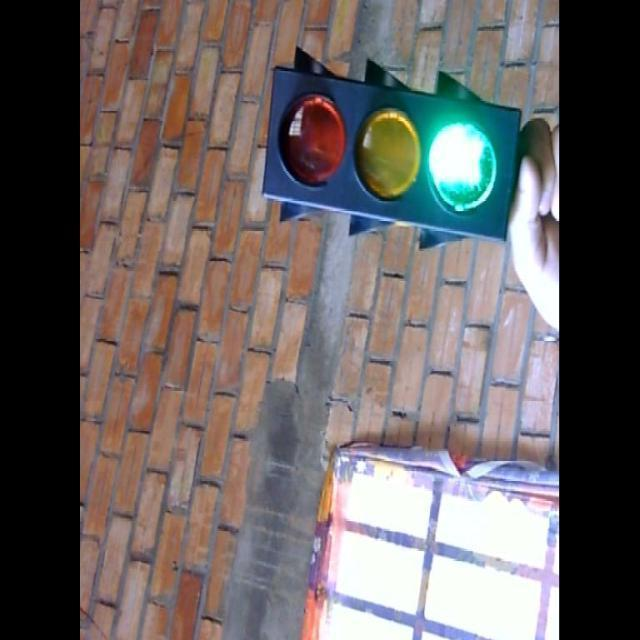green_light: (260, 54, 520, 238)
